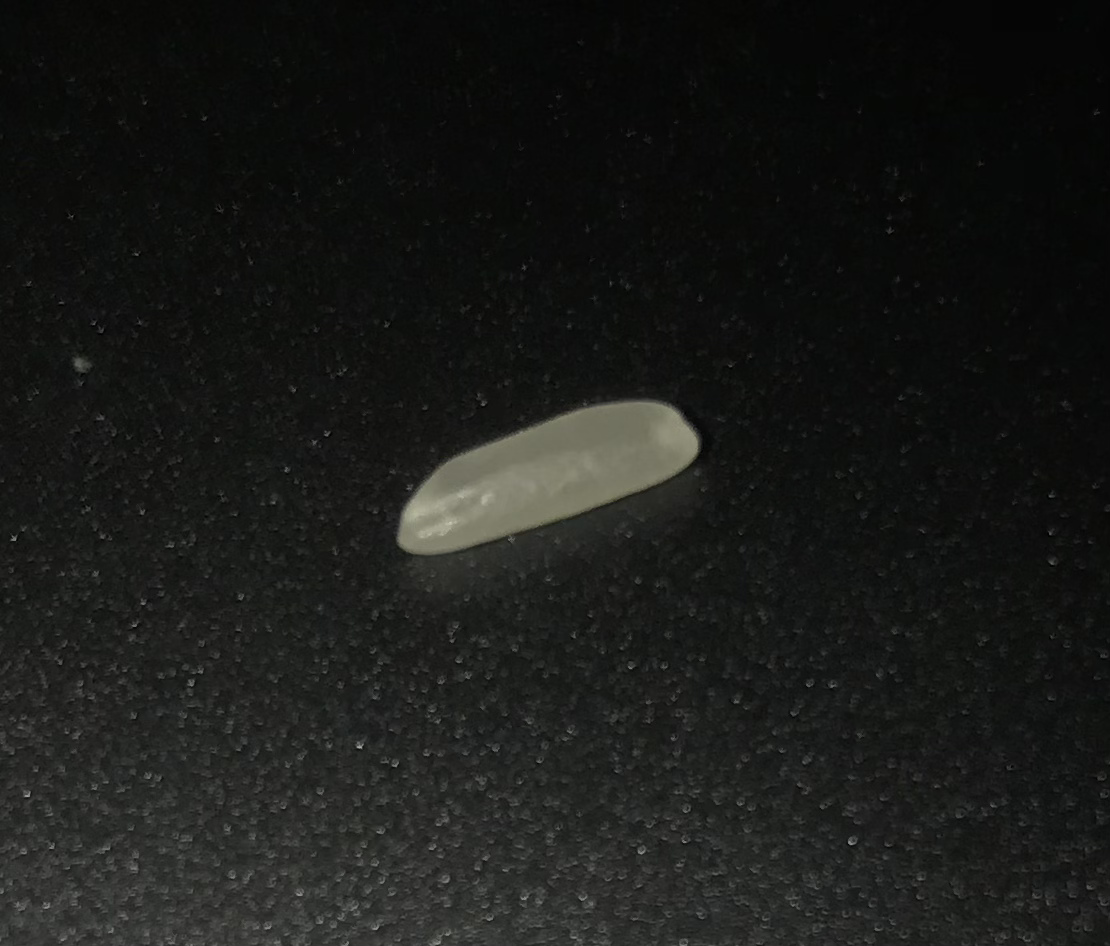Gao Thom My: (390, 367, 714, 563)
